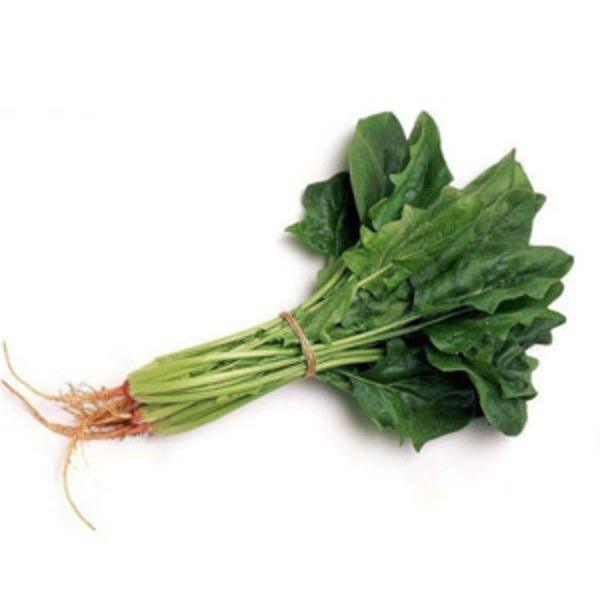bocai: (307, 110, 576, 456), (1, 334, 294, 456)
